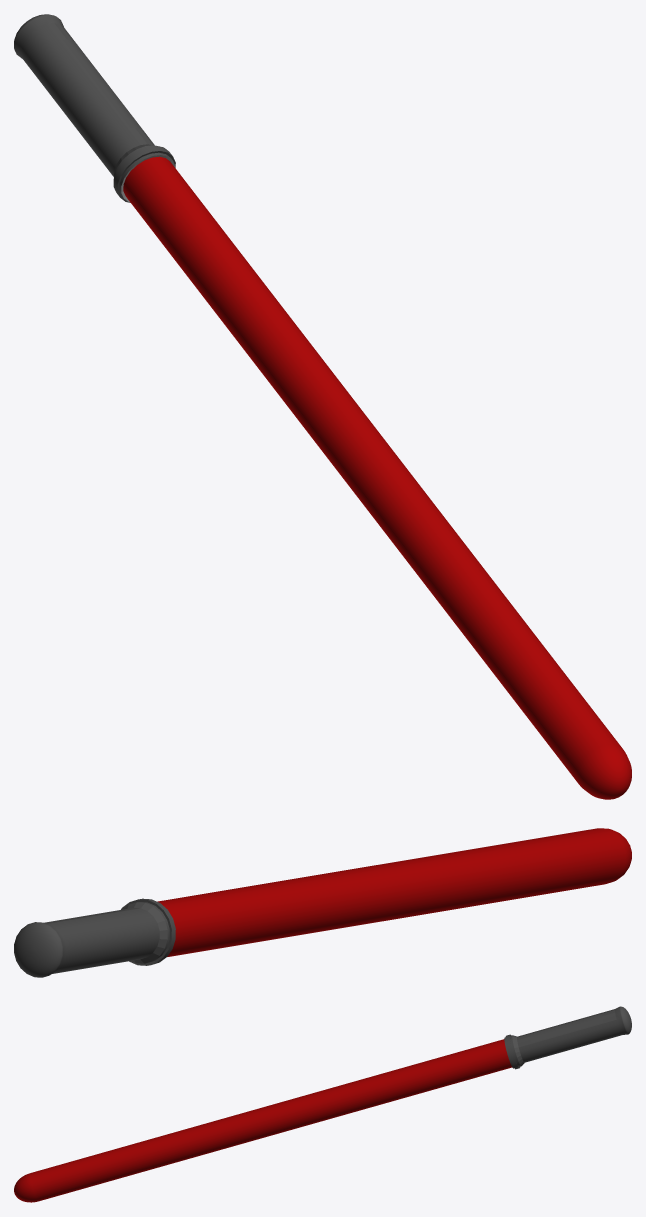
The model's file is lightsaber.fbx.
3 renders of one model, top to bottom at view 1: azimuth 30°, elevation 25°; view 2: azimuth 150°, elevation 25°; view 3: azimuth 270°, elevation 25°, orthographic. The views are drawn at different scales.
Visible parts, largest first — view 1: pCylinder1; view 2: pCylinder1; view 3: pCylinder1.
Boxes of the visible parts, x1,y1,x2,y2 form: pCylinder1: [14, 14, 631, 799]; pCylinder1: [14, 828, 631, 977]; pCylinder1: [14, 1006, 631, 1202].
Size of the model in its own units: 2.37 by 14.4 by 41.67.
